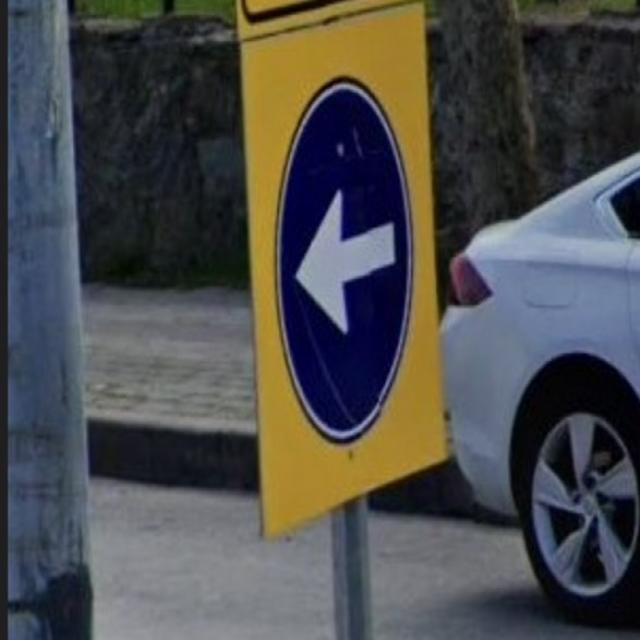Turn Left: (269, 68, 413, 436)
